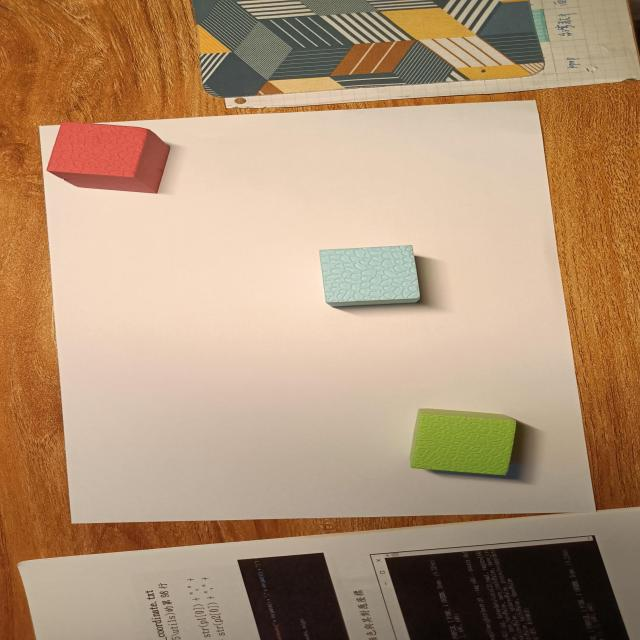BLUE: (317, 244, 420, 308)
GREEN: (408, 409, 518, 476)
RED: (46, 121, 171, 194)
